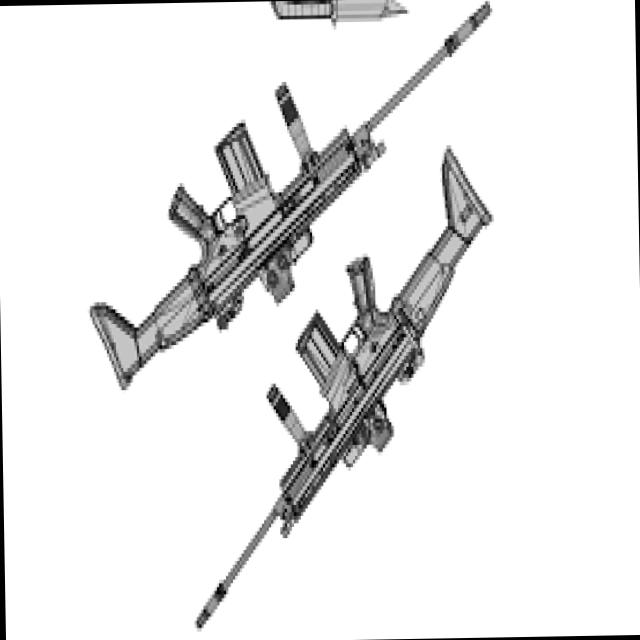Gun: (80, 0, 508, 409), (175, 154, 500, 640)
